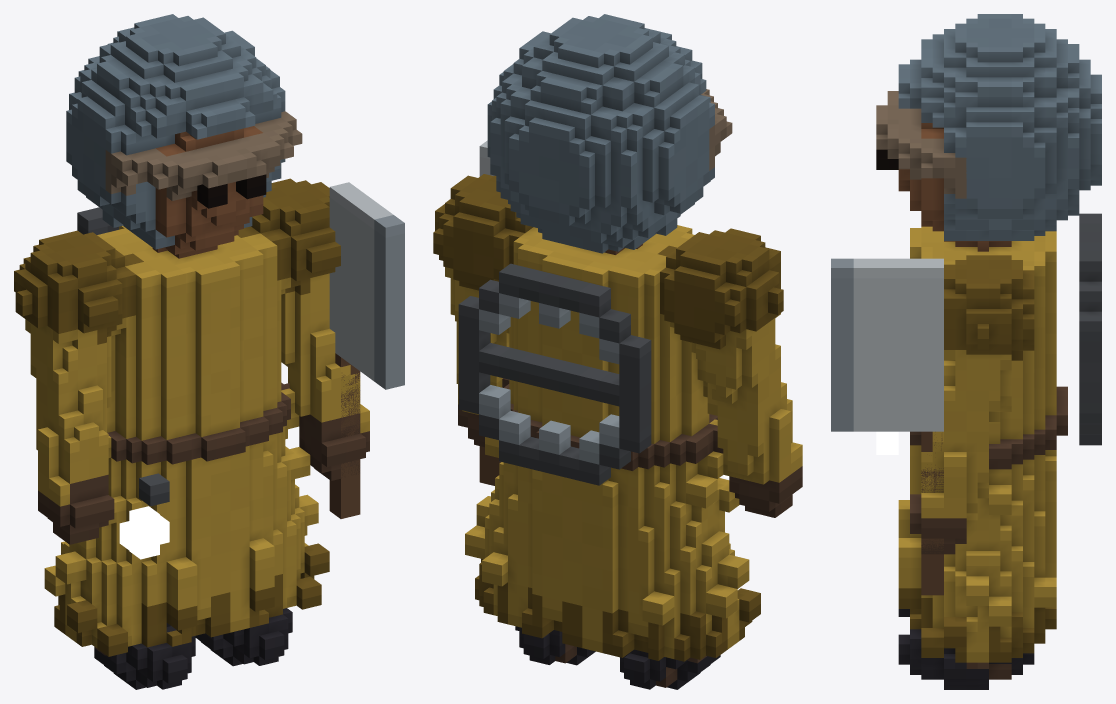
File: u_receleur__trappeur.glb
3 views of the same model, side by side, from view 1: azimuth 30°, elevation 25°; view 2: azimuth 150°, elevation 25°; view 3: azimuth 270°, elevation 25° (orthographic). The views are drawn at different scales.
Parts seen in each view (by area): view 1: receleur_body, receleur_weapon, receleur_glow; view 2: receleur_body, receleur_weapon; view 3: receleur_body, receleur_weapon, receleur_glow.
Part boxes in pixels (<box>): receleur_body: <box>14,14,369,689</box>; receleur_weapon: <box>329,182,404,518</box>; receleur_glow: <box>119,506,169,559</box>; receleur_body: <box>433,14,802,689</box>; receleur_weapon: <box>479,140,500,485</box>; receleur_body: <box>876,14,1101,689</box>; receleur_weapon: <box>831,258,943,595</box>; receleur_glow: <box>876,431,898,454</box>.
Bounding box in the file's own units: 0.85 × 1.52 × 0.6.
